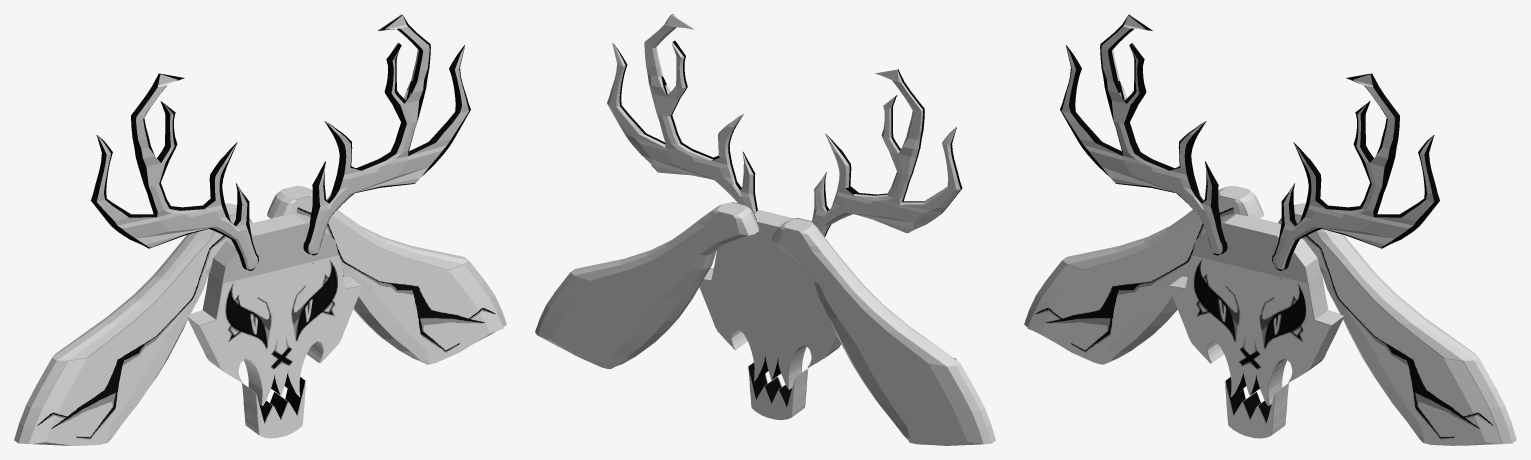
File: Jackoboss3.fbx
The picture shows the model from 3 angles, left to right: view 1: azimuth 30°, elevation 25°; view 2: azimuth 150°, elevation 25°; view 3: azimuth 330°, elevation 25°; orthographic projection. The views are drawn at different scales.
Visible parts, largest first — view 1: Jackoskull; view 2: Jackoskull; view 3: Jackoskull.
Boxes of the visible parts, <box> form: Jackoskull: <box>14,14,506,445</box>; Jackoskull: <box>535,14,995,445</box>; Jackoskull: <box>1024,14,1516,445</box>.
Size of the model in its own units: 4172 by 442 by 3204.
3 materials, 1 textured.
